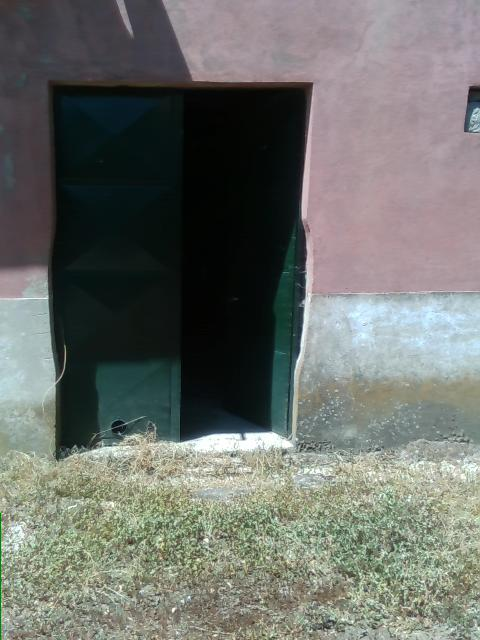semi_door: (48, 80, 316, 457)
